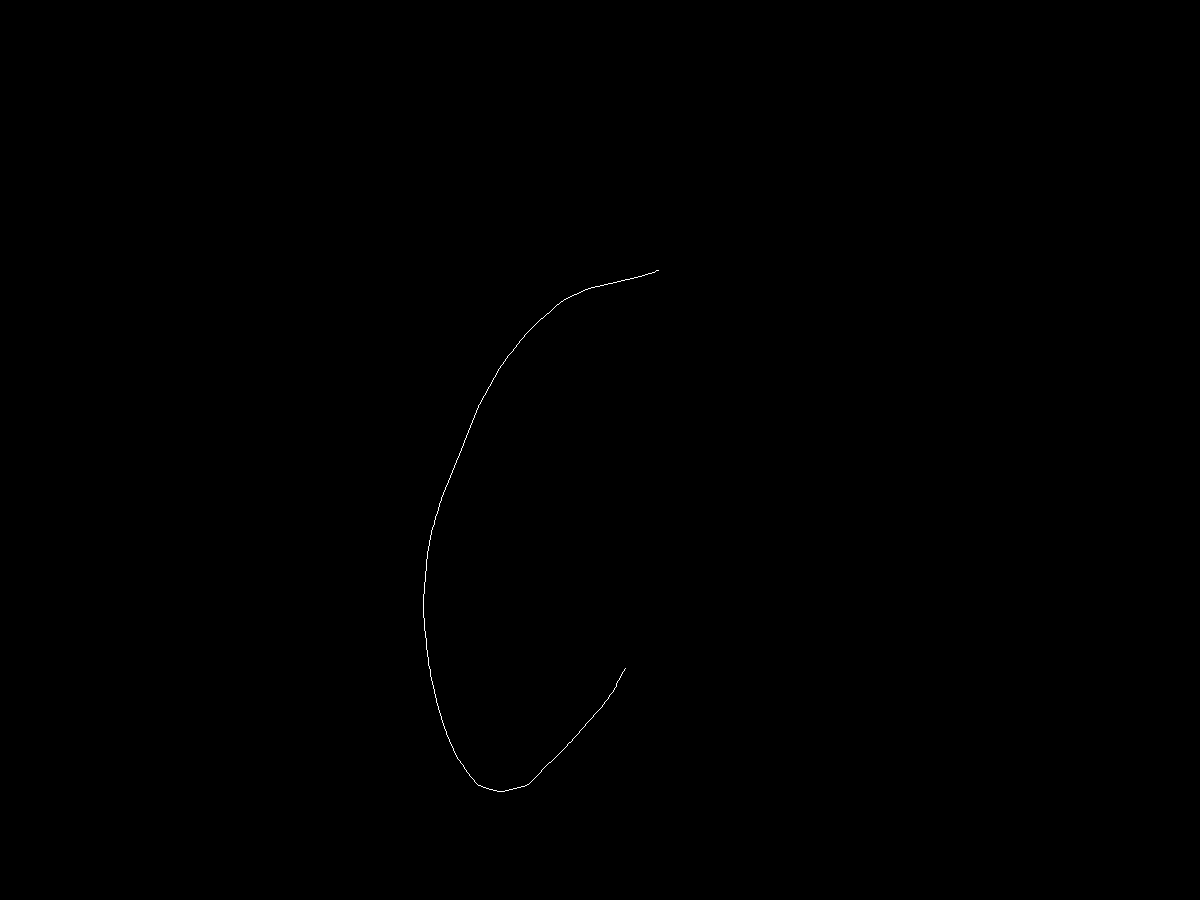dian1: (646, 265, 670, 280)
dian2: (612, 654, 639, 680)
